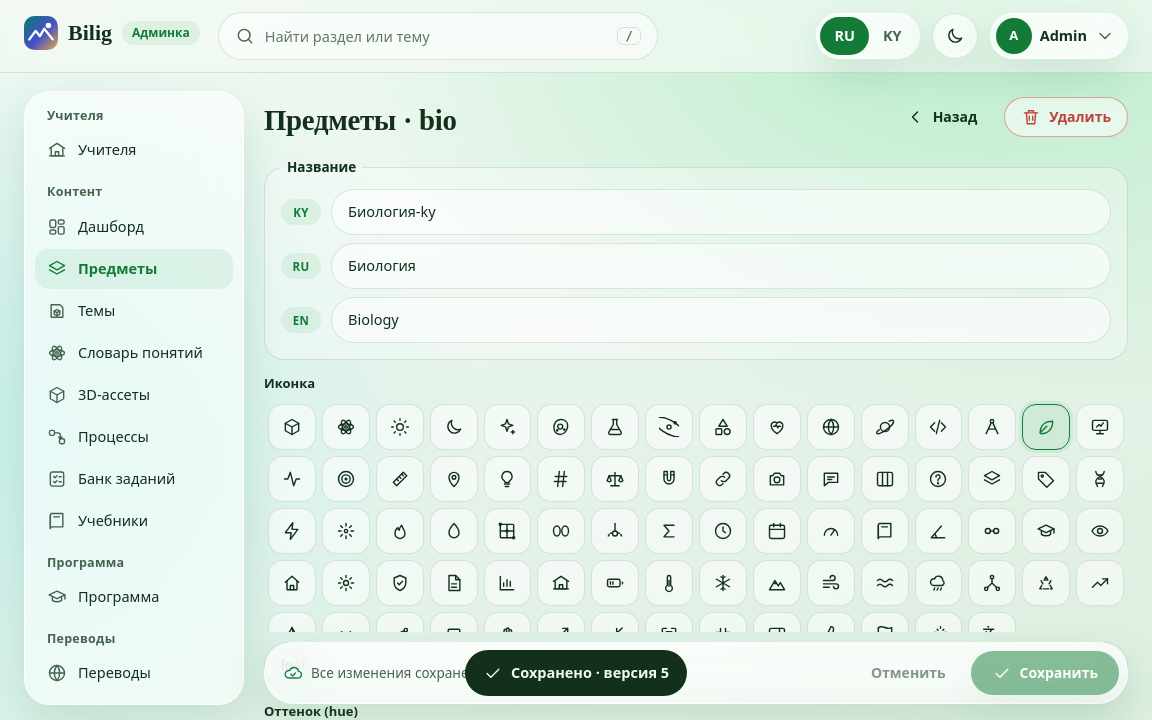
optimistic locking: 409 conflict flow › "take theirs" discards my edit and adopts the server version
Replace the text in the field showing "Биология" with "Мой вариант" at coordinates (721, 266), box left=331, top=243, right=1111, bottom=289
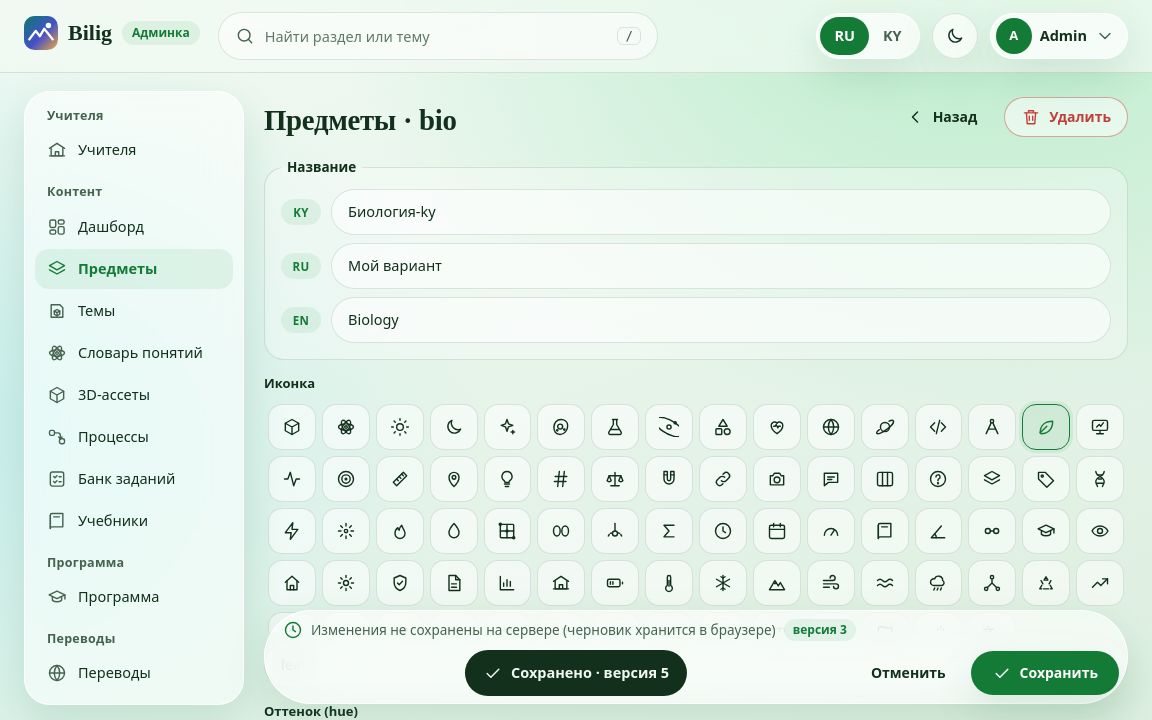
Click the button "Сохранить" at coordinates (1045, 673), box left=971, top=651, right=1119, bottom=695
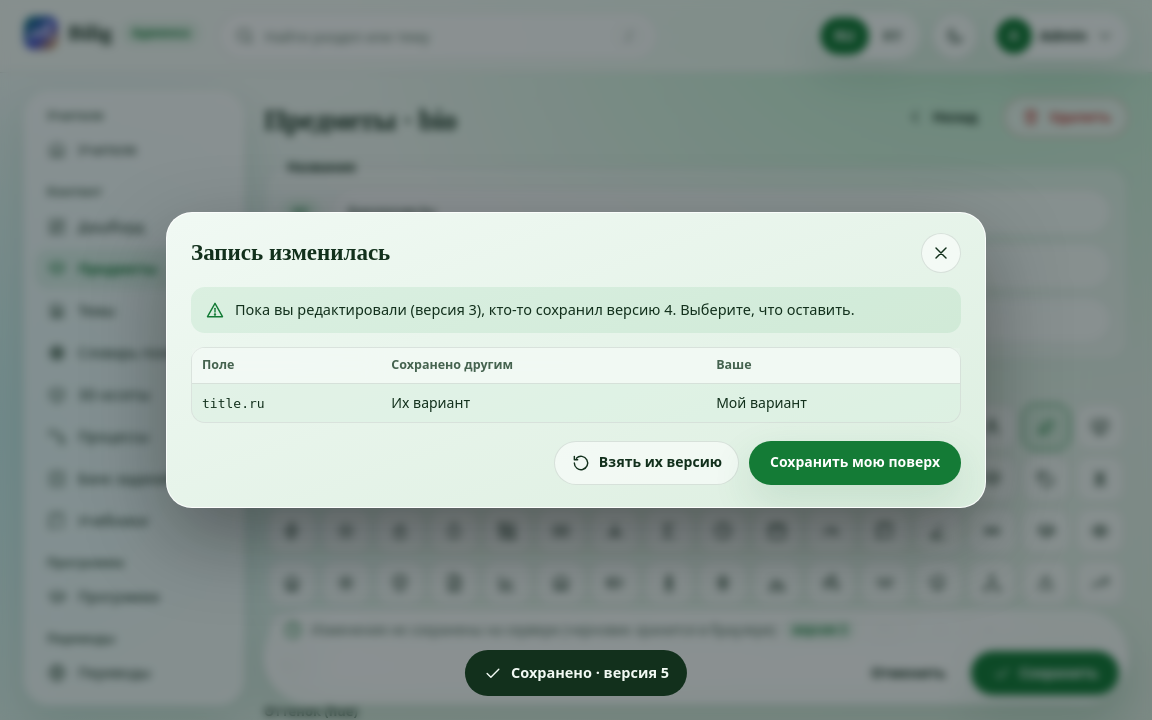
Click the button "Взять их версию" at coordinates (646, 463), box left=554, top=441, right=739, bottom=485
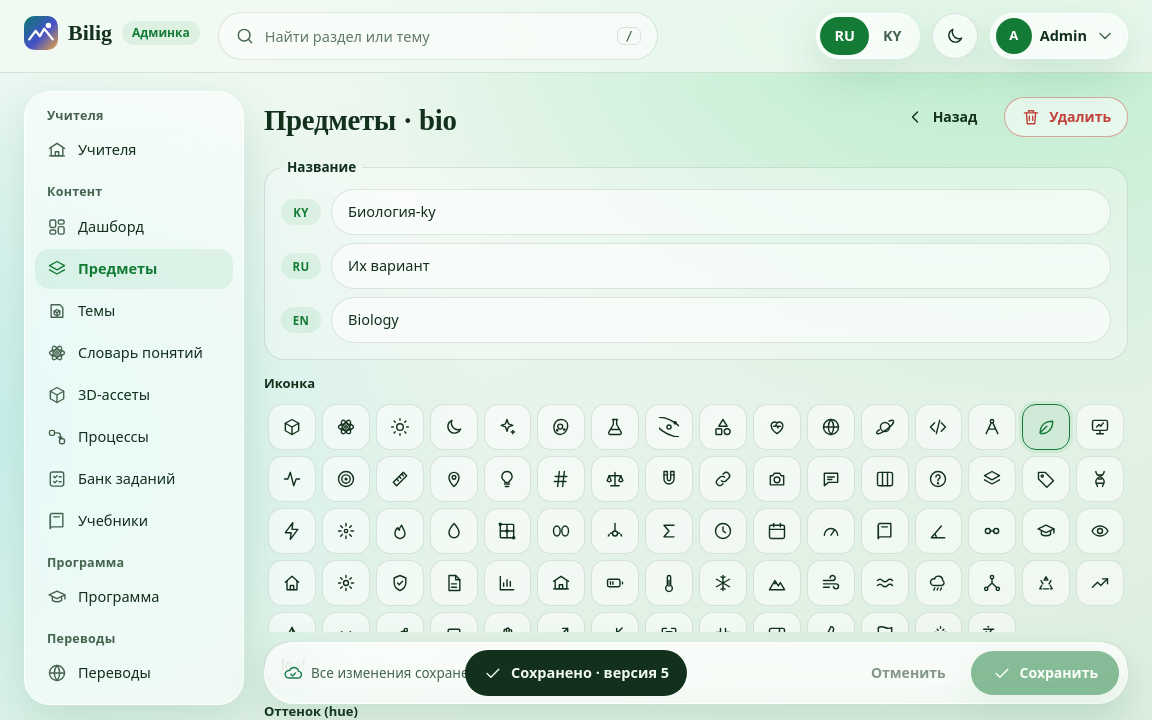
Expected: the text "версия 4" is shown, left=496, top=662, right=568, bottom=684
Expected: the field showing "Их вариант" is shown, left=331, top=243, right=1111, bottom=289
